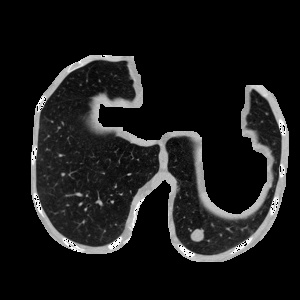PN: (191, 230, 203, 242)
